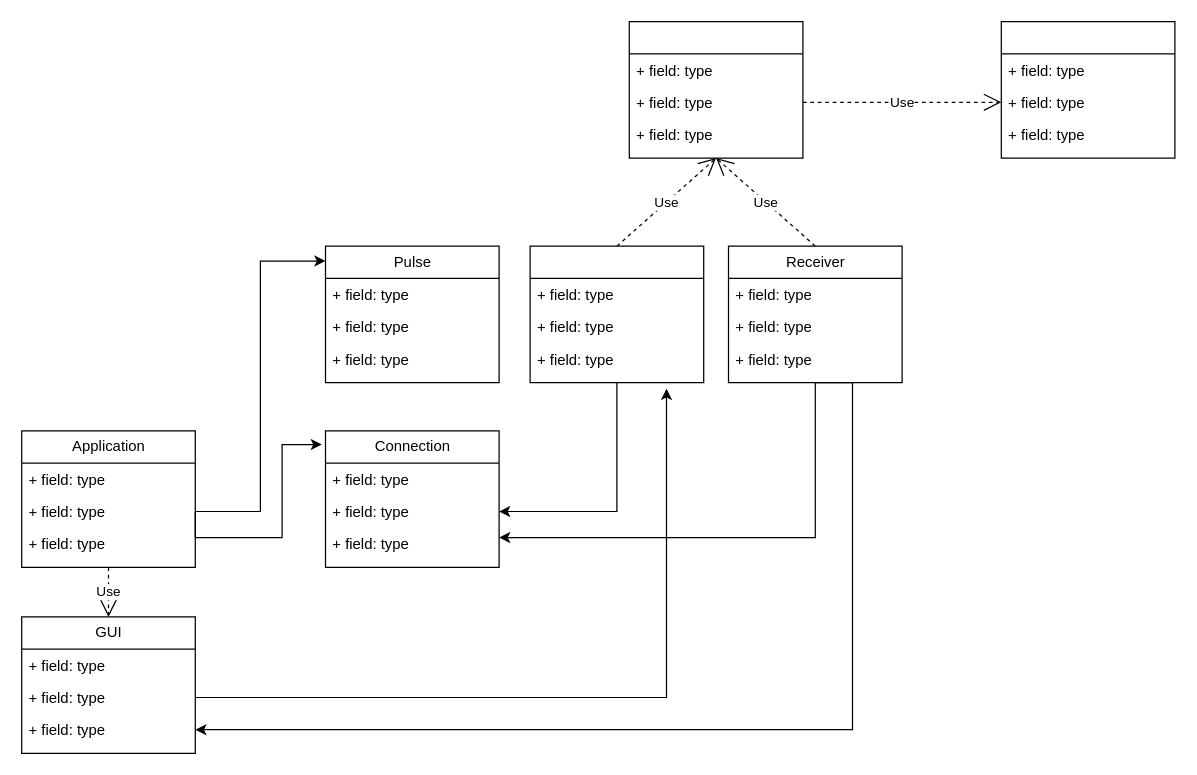
Image size: 1197x775. Some labels were removed from this diagram. Each missing label, with the box of its shape:
Diffie-Hellman: (1000, 20, 1175, 158)
Sender: (529, 245, 704, 383)
TransportLayer: (628, 20, 803, 158)
